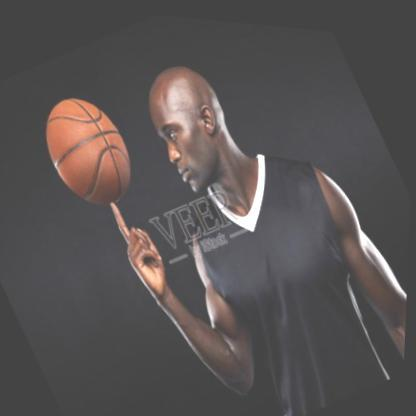basketball: (29, 78, 150, 220)
